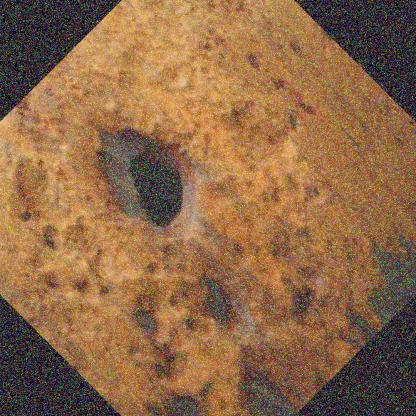burst: (80, 114, 219, 242)
